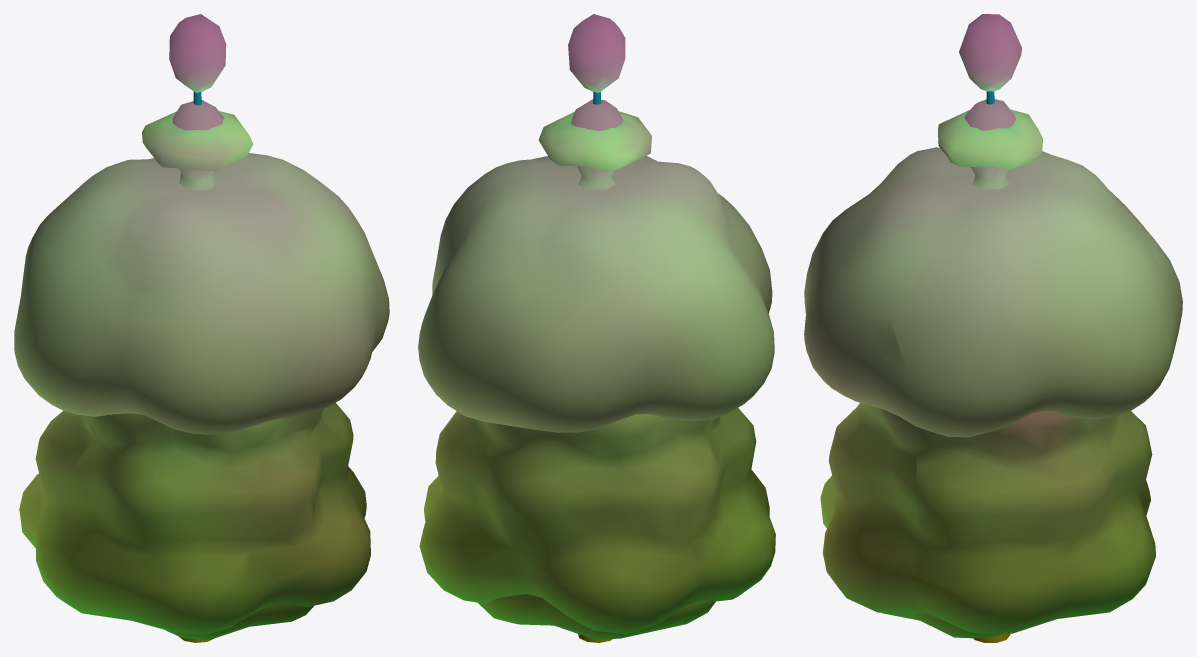
Rendered from conifer.glb.
The picture shows the model from 3 angles, left to right: view 1: azimuth 30°, elevation 25°; view 2: azimuth 150°, elevation 25°; view 3: azimuth 270°, elevation 25°; orthographic projection.
Visible parts, largest first — view 1: conifer_2_lod0, conifer_0_lod0, conifer_1_lod0; view 2: conifer_2_lod0, conifer_0_lod0, conifer_1_lod0; view 3: conifer_2_lod0, conifer_0_lod0, conifer_1_lod0.
Boxes of the visible parts, left/top/right/bottom form: conifer_2_lod0: left=14, top=153, right=389, bottom=642; conifer_0_lod0: left=19, top=14, right=370, bottom=634; conifer_1_lod0: left=165, top=100, right=313, bottom=639; conifer_2_lod0: left=418, top=156, right=774, bottom=642; conifer_0_lod0: left=419, top=14, right=775, bottom=634; conifer_1_lod0: left=478, top=99, right=715, bottom=639; conifer_2_lod0: left=804, top=147, right=1182, bottom=642; conifer_0_lod0: left=820, top=14, right=1155, bottom=633; conifer_1_lod0: left=882, top=99, right=1015, bottom=638.
Size of what is drawn, in the model's own units: 8.14 by 14.33 by 7.98.
